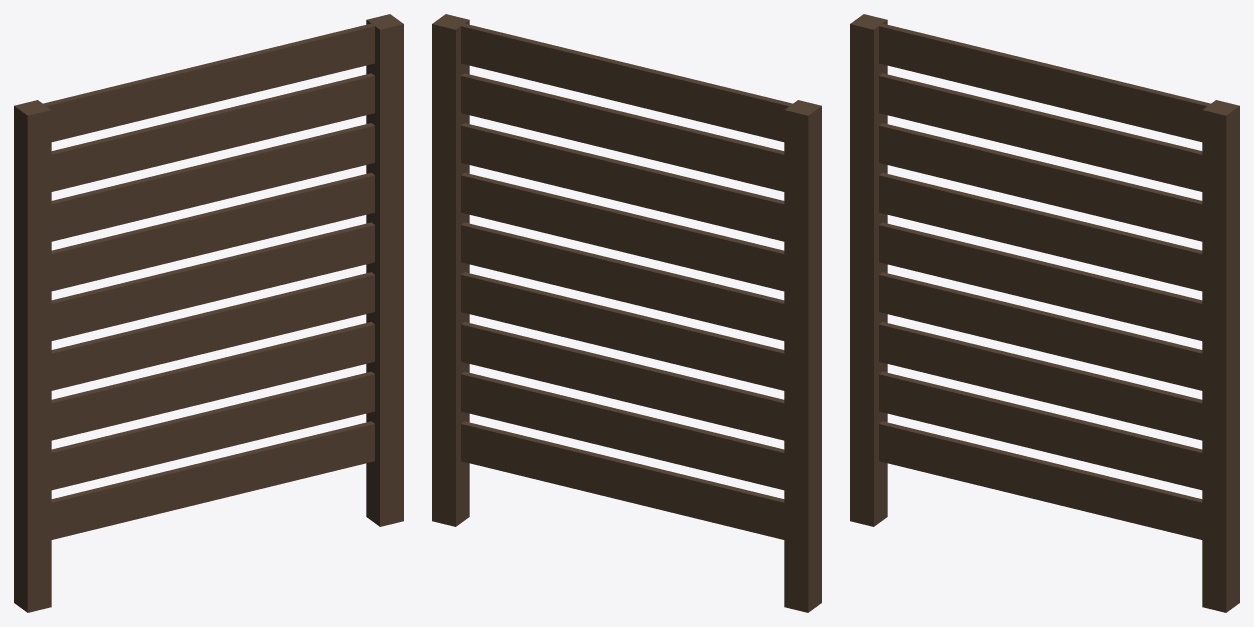
Rendered from SM_Lot_GapFence_Louver_950_01.gltf.
3 views of the same model, side by side, from view 1: azimuth 30°, elevation 25°; view 2: azimuth 150°, elevation 25°; view 3: azimuth 330°, elevation 25° (orthographic).
Parts seen in each view (by area): view 1: SM_Lot_GapFence_Louver_950_01; view 2: SM_Lot_GapFence_Louver_950_01; view 3: SM_Lot_GapFence_Louver_950_01.
Boxes of the visible parts, x1,y1,x2,y2 form: SM_Lot_GapFence_Louver_950_01: (14,14,403,612); SM_Lot_GapFence_Louver_950_01: (432,14,821,612); SM_Lot_GapFence_Louver_950_01: (850,14,1239,612).
Bounding box in the file's own units: 0.95 × 1.2 × 0.06.
1 material, 1 textured.
